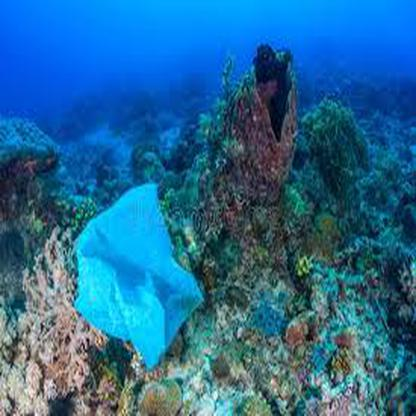plastic bag: (73, 180, 203, 366)
